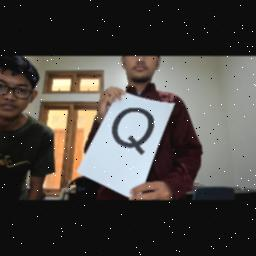q: (110, 106, 158, 160)
